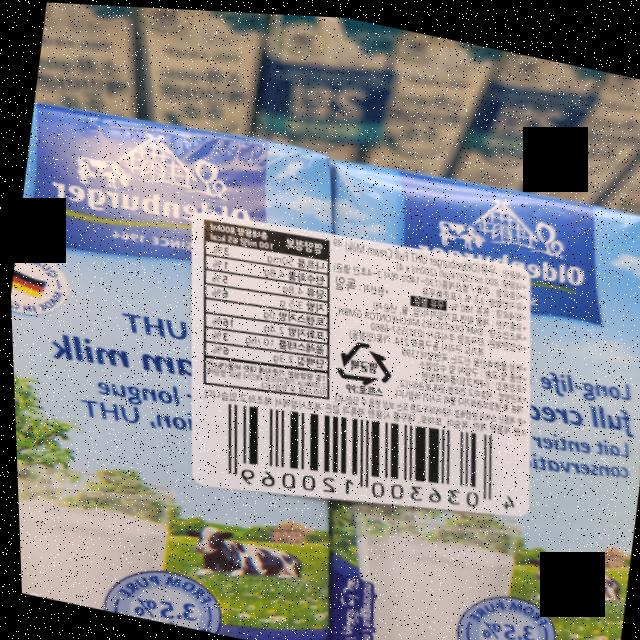SterilizedPack: (328, 332, 394, 386)
